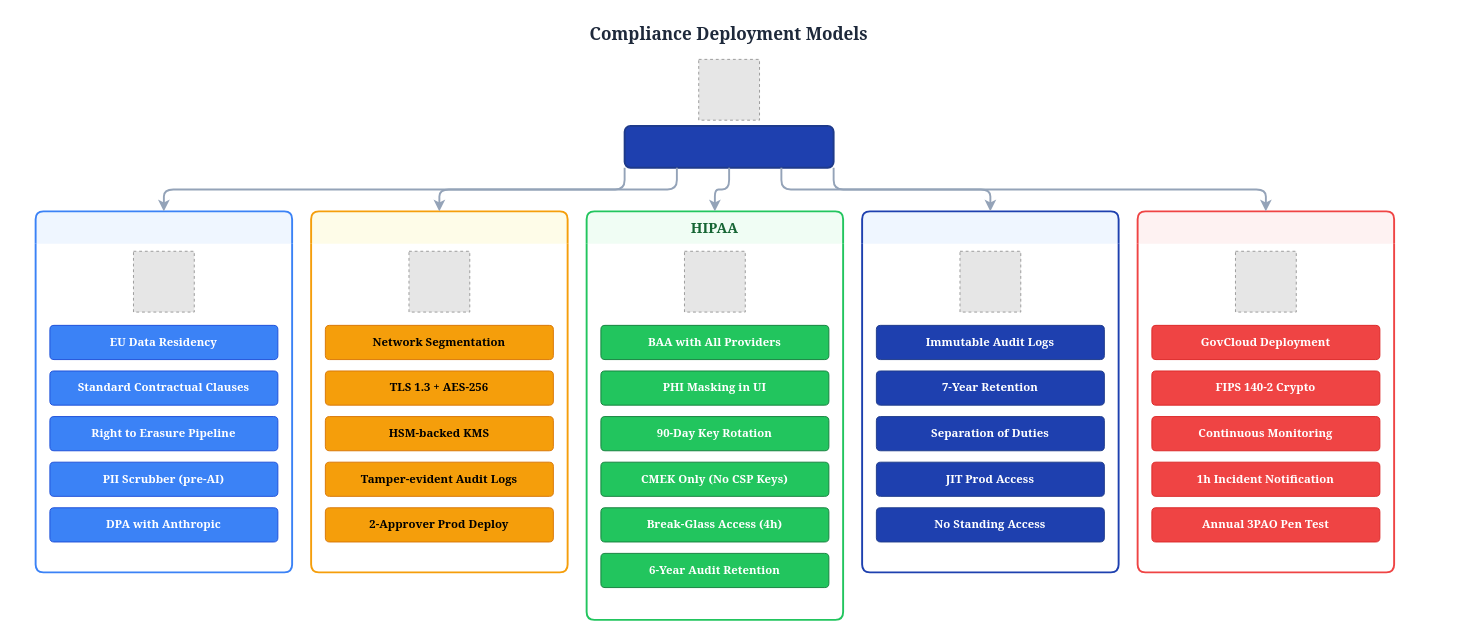
Some shapes in this 1457 by 637 pixel diagram are drawn without their labels. Grey dashed boxes stand in for pictures. The shapes that lost their labels are listed below. From the top down, each one's box as (x1, y1, x2, y2) in pixels, then its label:
(623, 124, 834, 168): CloudForge
(34, 210, 293, 573): GDPR
(310, 210, 568, 573): PCI-DSS
(861, 210, 1119, 573): SOX
(1136, 210, 1395, 573): FedRAMP
